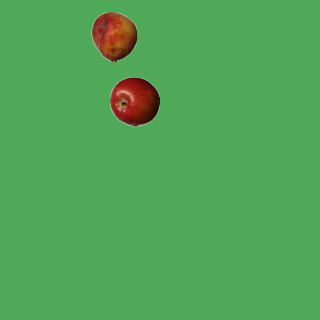Apple Braeburn: (109, 76, 159, 126)
Peach: (89, 11, 139, 61)
